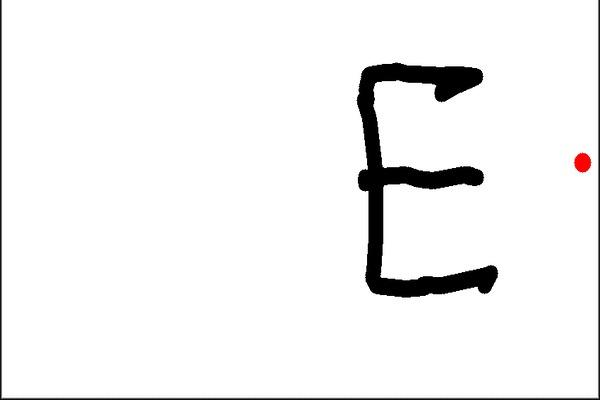E: (348, 56, 514, 304)
